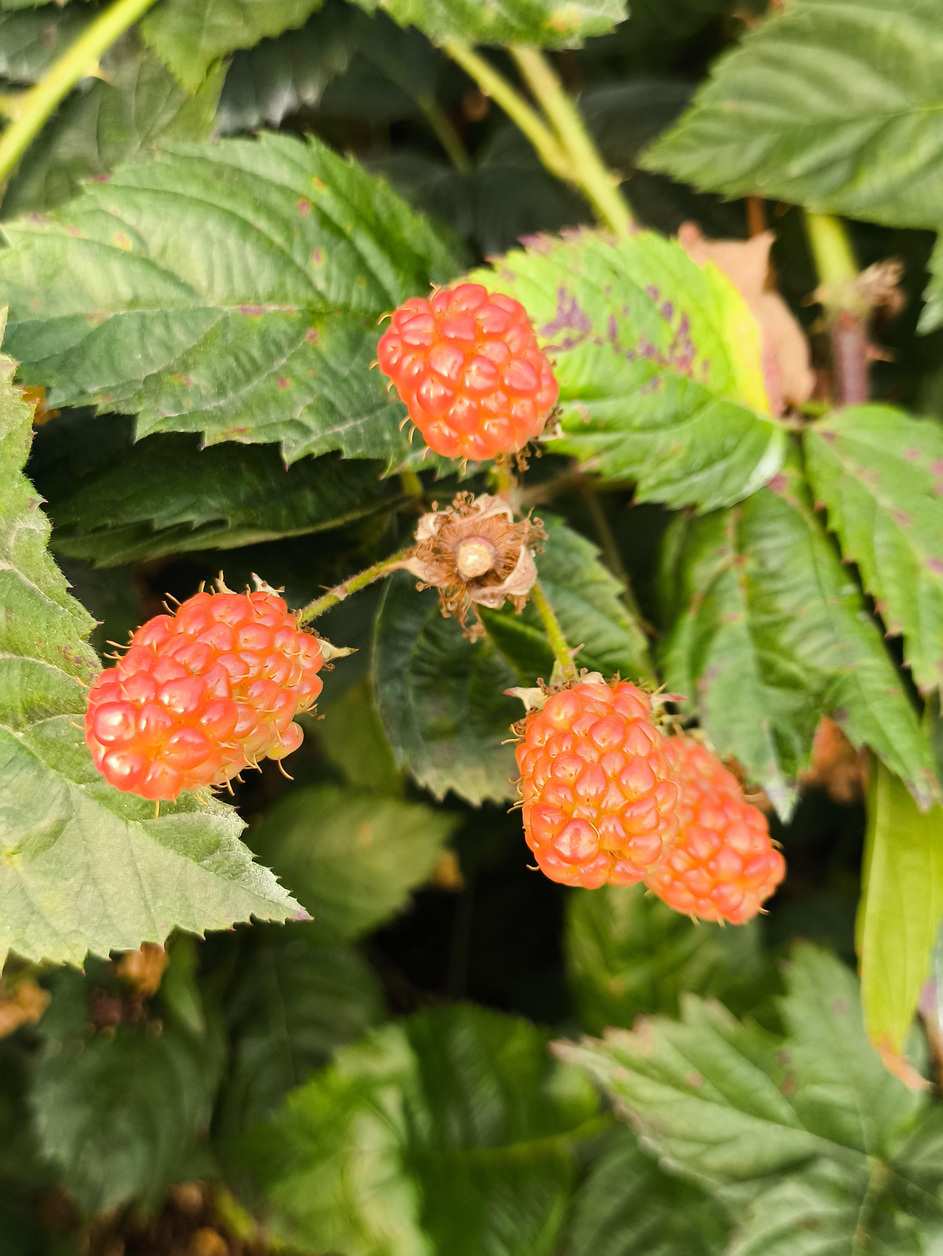naranja: (83, 584, 326, 802), (513, 671, 675, 885), (378, 284, 558, 460), (645, 736, 785, 926)
